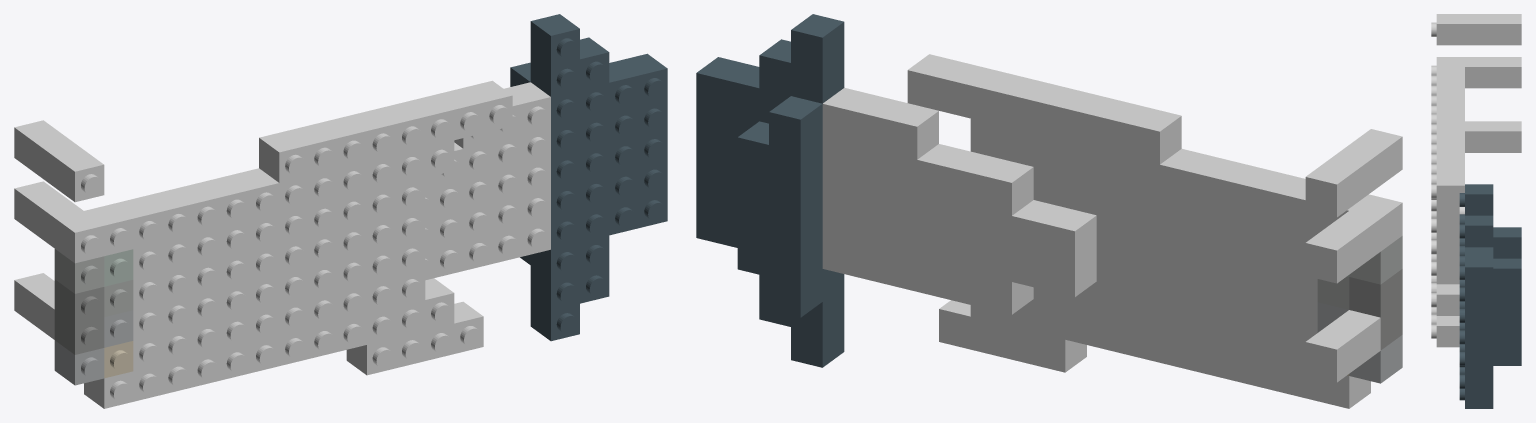
Rendered from full.glb.
The picture shows the model from 3 angles, left to right: view 1: azimuth 30°, elevation 25°; view 2: azimuth 150°, elevation 25°; view 3: azimuth 270°, elevation 25°; orthographic projection. The views are drawn at different scales.
Parts seen in each view (by area): view 1: world; view 2: world; view 3: world.
Boxes of the visible parts, x1,y1,x2,y2 form: world: [14, 14, 667, 408]; world: [696, 14, 1402, 408]; world: [1431, 14, 1521, 408].
Size of the model in its own units: 168 by 80 by 30.6.
